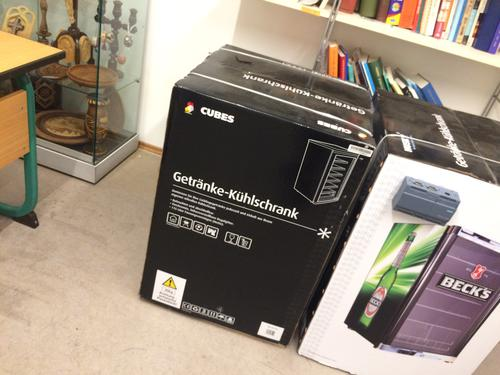iot2000: (391, 175, 461, 227)
